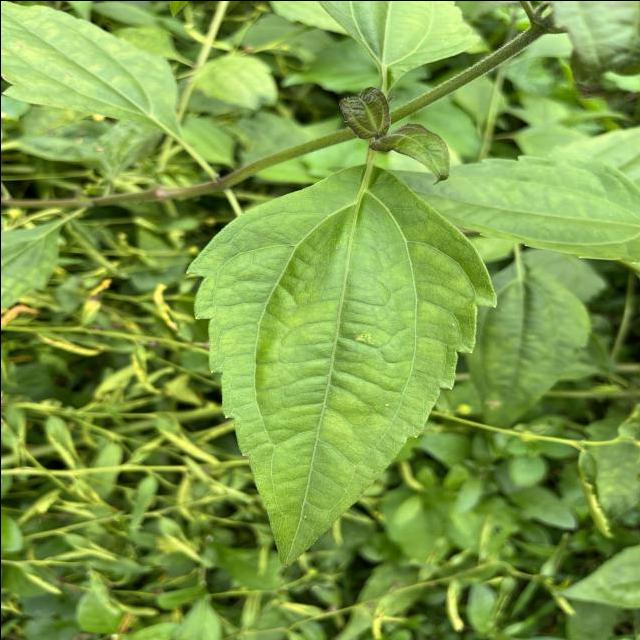Chromolaena odorata: (180, 158, 499, 573)
